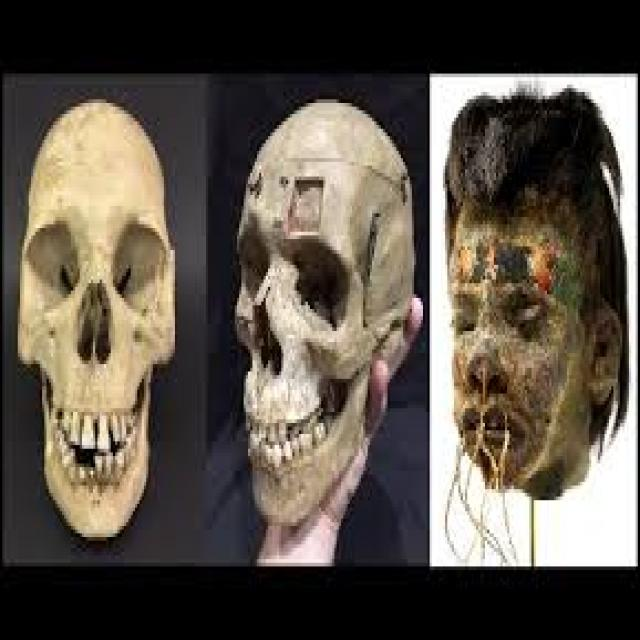skull: (13, 108, 183, 546)
